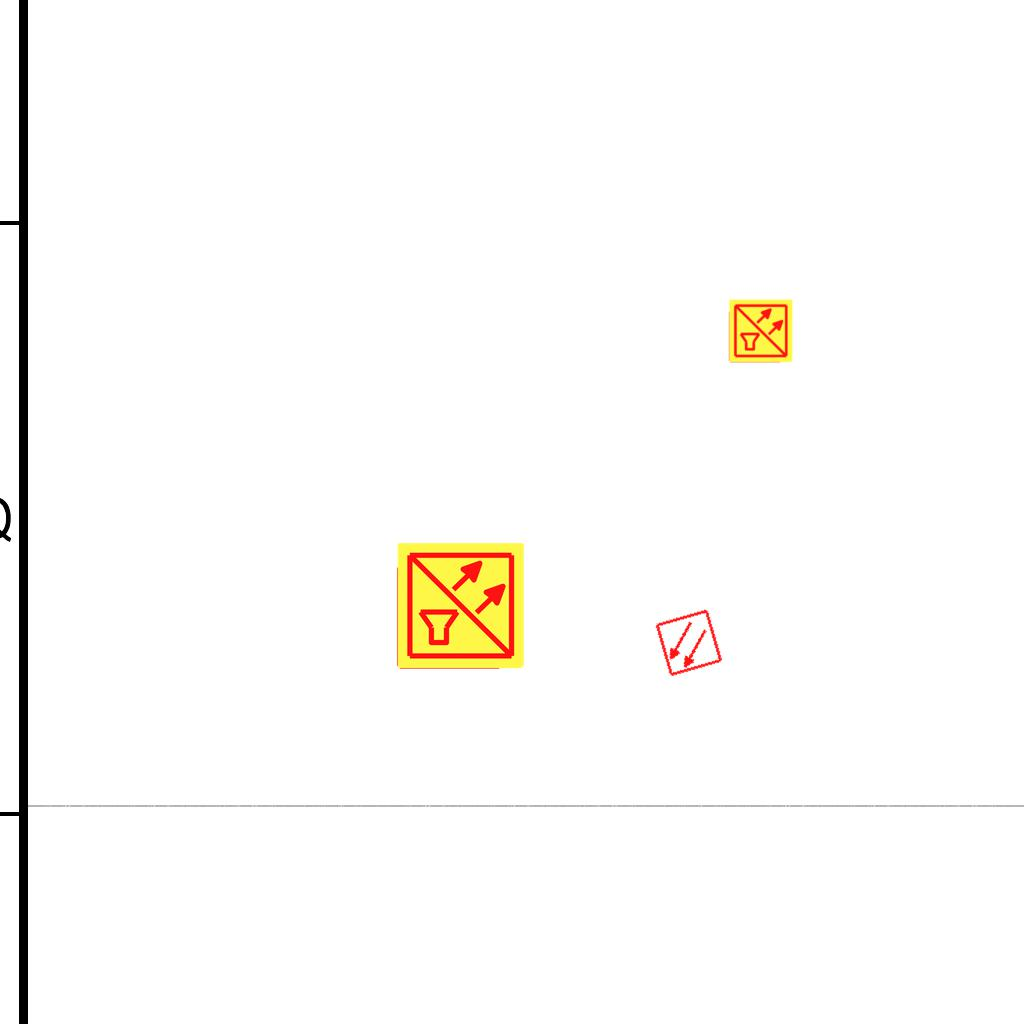OKW_Multisensormelder_(Kombination_optischer_Rauch-Kahlenmonoxid_Waerme-Melder): (395, 540, 527, 672), (728, 298, 794, 364)
RMO_Rauchmelder_optischer: (654, 608, 724, 678)
